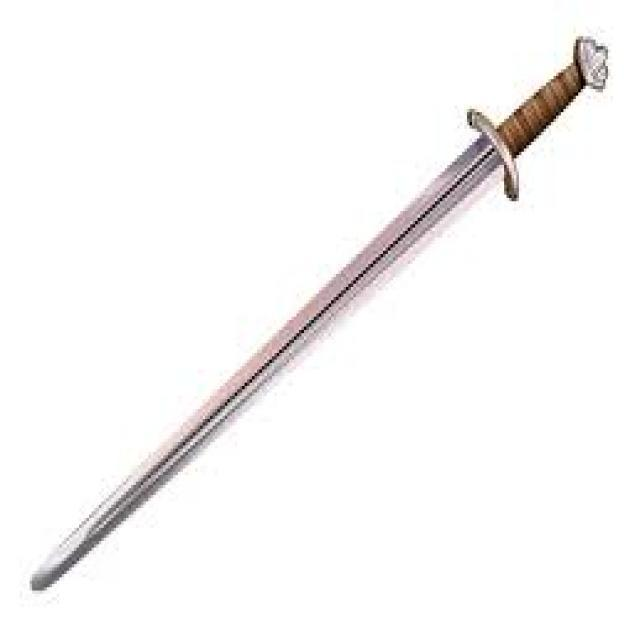long sword: (31, 33, 608, 591)
